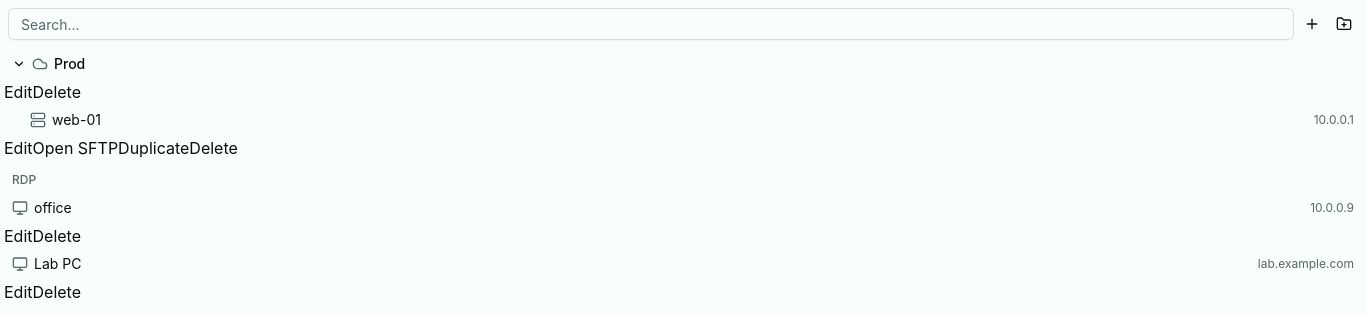
Test case: search filters RDP profiles by host
Type "10.0" into the field with placeholder "Search..." at [651, 24], box x1=8 y1=8 x2=1294 y2=40
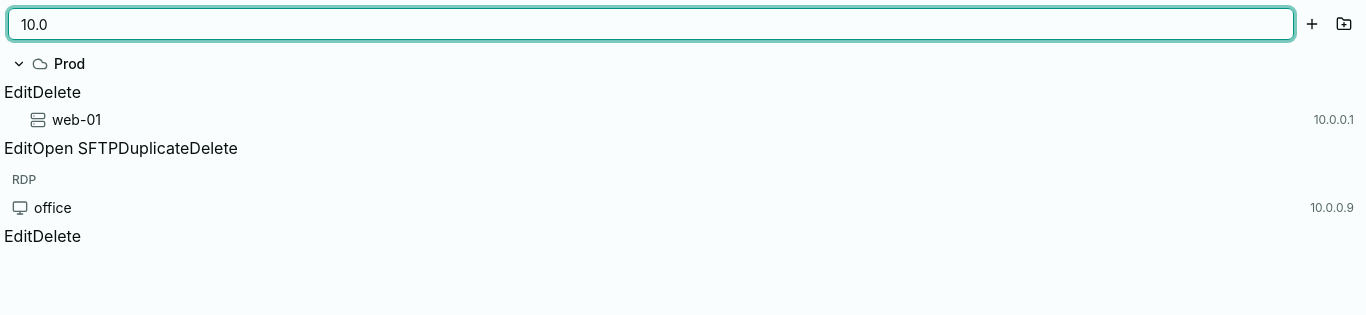
Expected: the text "office" is shown, x1=34 y1=198 x2=72 y2=218
Expected: the button "Lab PC" is gone
